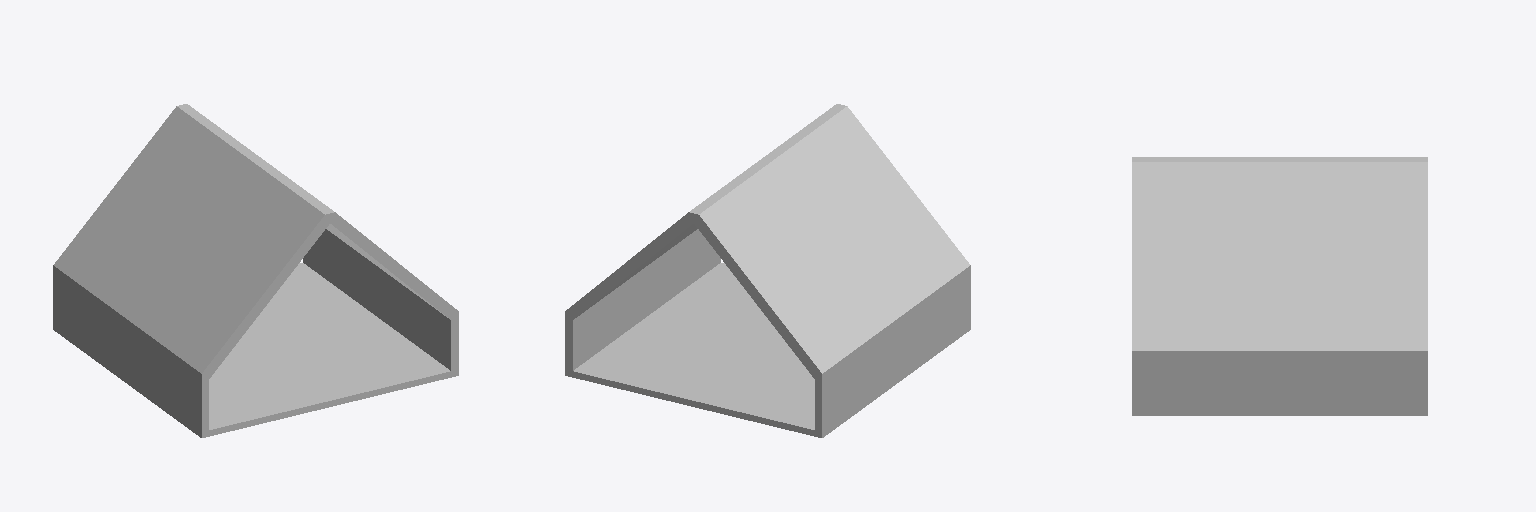
The model's file is Body2.obj.
The picture shows the model from 3 angles: view 1: azimuth 30°, elevation 25°; view 2: azimuth 150°, elevation 25°; view 3: azimuth 270°, elevation 25°; orthographic projection.
Parts seen in each view (by area): view 1: Body2; view 2: Body2; view 3: Body2.
Boxes of the visible parts, <box> form: Body2: <box>53,104,458,437</box>; Body2: <box>565,104,970,437</box>; Body2: <box>1132,157,1427,415</box>.
Bounding box in the file's own units: 25 × 18 × 25.